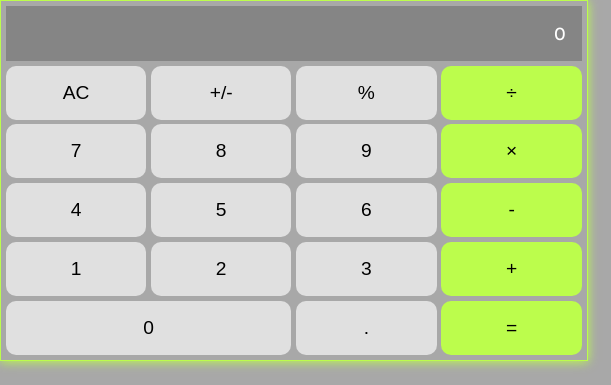
Scenario: Tests for Calculator component › Simulate user pressing numbers to display right numbers
Click the button "4": (76, 210) [6,183,146,237]
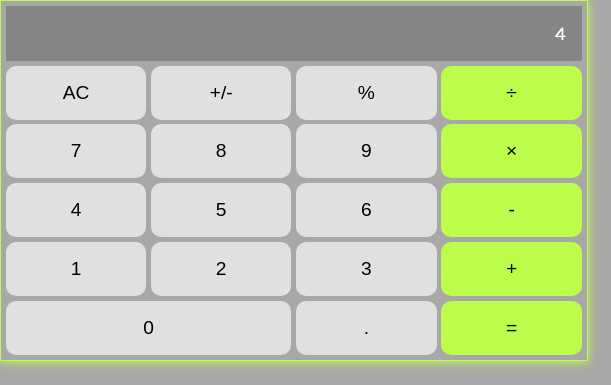
Click the button "0": (149, 328) [6,301,291,355]
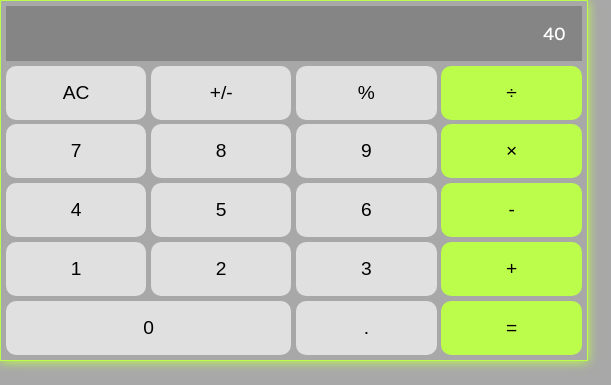
Click the button "1": (76, 269) [6,242,146,296]
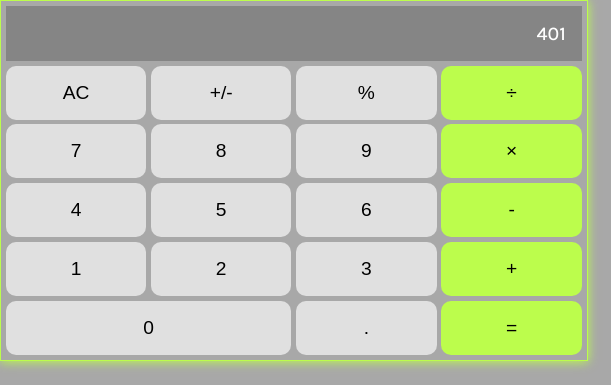
Click the button "0": (149, 328) [6,301,291,355]
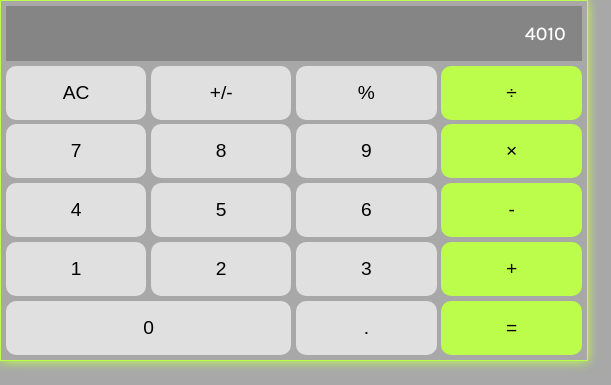
Expected: the text with class "display" reads "4010", [525,22,566,45]
